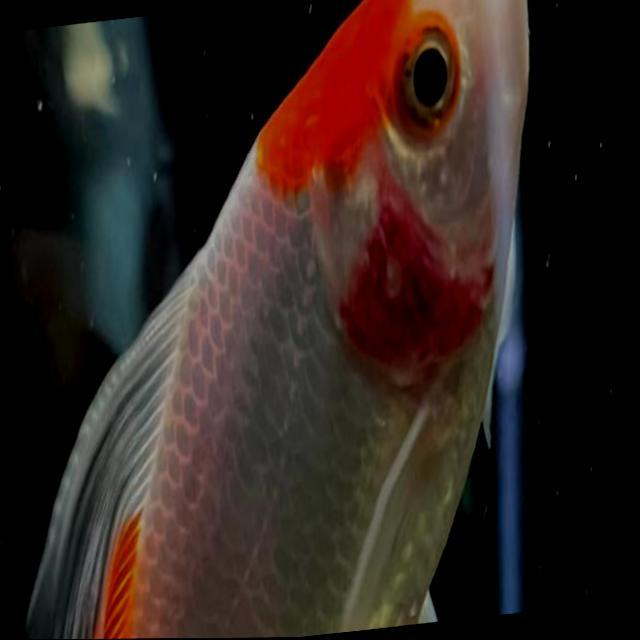Gill Disease: (195, 7, 528, 513)
